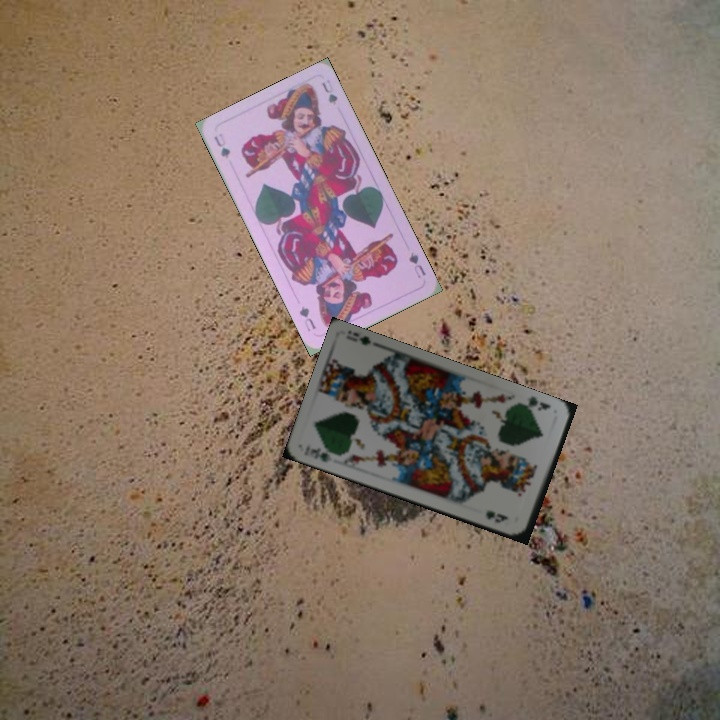GK: (522, 392, 553, 414), (306, 444, 334, 465)
GU: (405, 248, 428, 281), (210, 129, 233, 161)
